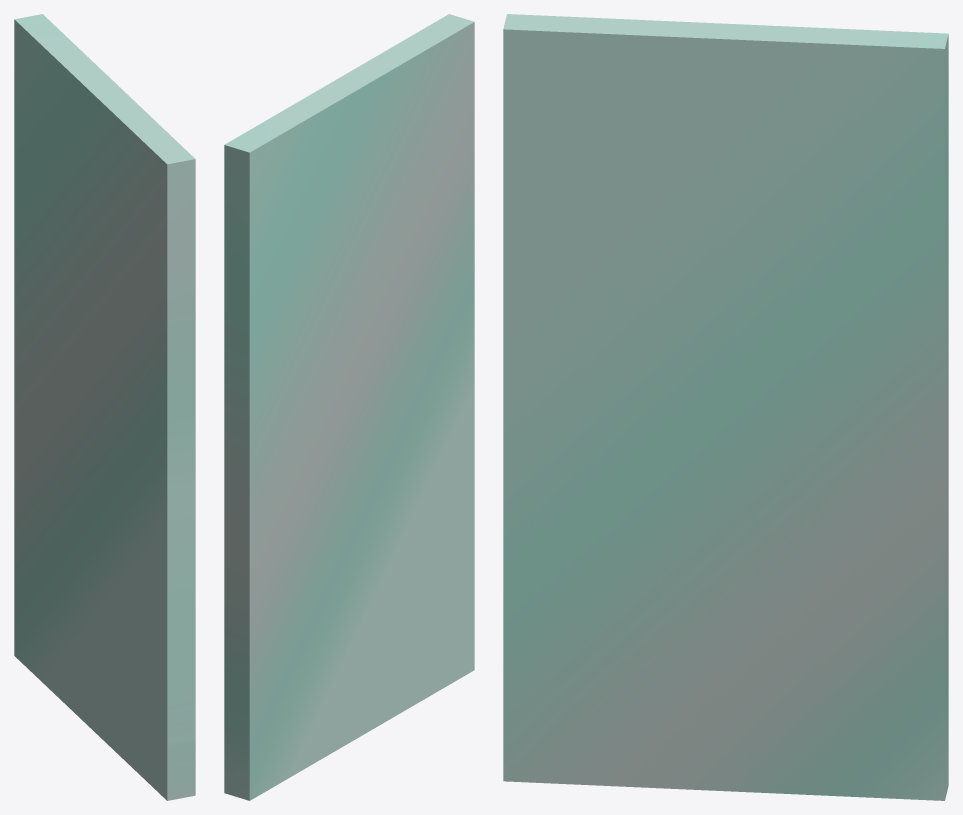
Rendered from SM_105_Door_11_1_5.fbx.
The picture shows the model from 3 angles, left to right: view 1: azimuth 30°, elevation 25°; view 2: azimuth 150°, elevation 25°; view 3: azimuth 270°, elevation 25°; orthographic projection. The views are drawn at different scales.
Visible parts, largest first — view 1: SM_105_Door_11_1_5; view 2: SM_105_Door_11_1_5; view 3: SM_105_Door_11_1_5.
Boxes of the visible parts, box(x1,y1,x2,y2) form: SM_105_Door_11_1_5: box(14, 14, 195, 800); SM_105_Door_11_1_5: box(224, 14, 474, 800); SM_105_Door_11_1_5: box(503, 14, 948, 800).
Bounding box in the file's own units: 19.75 × 106 × 198.
1 material, 1 textured.
